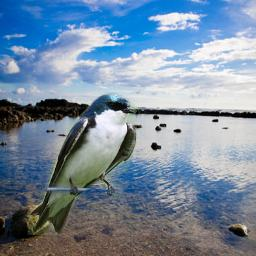Swallow: (27, 92, 137, 235)
